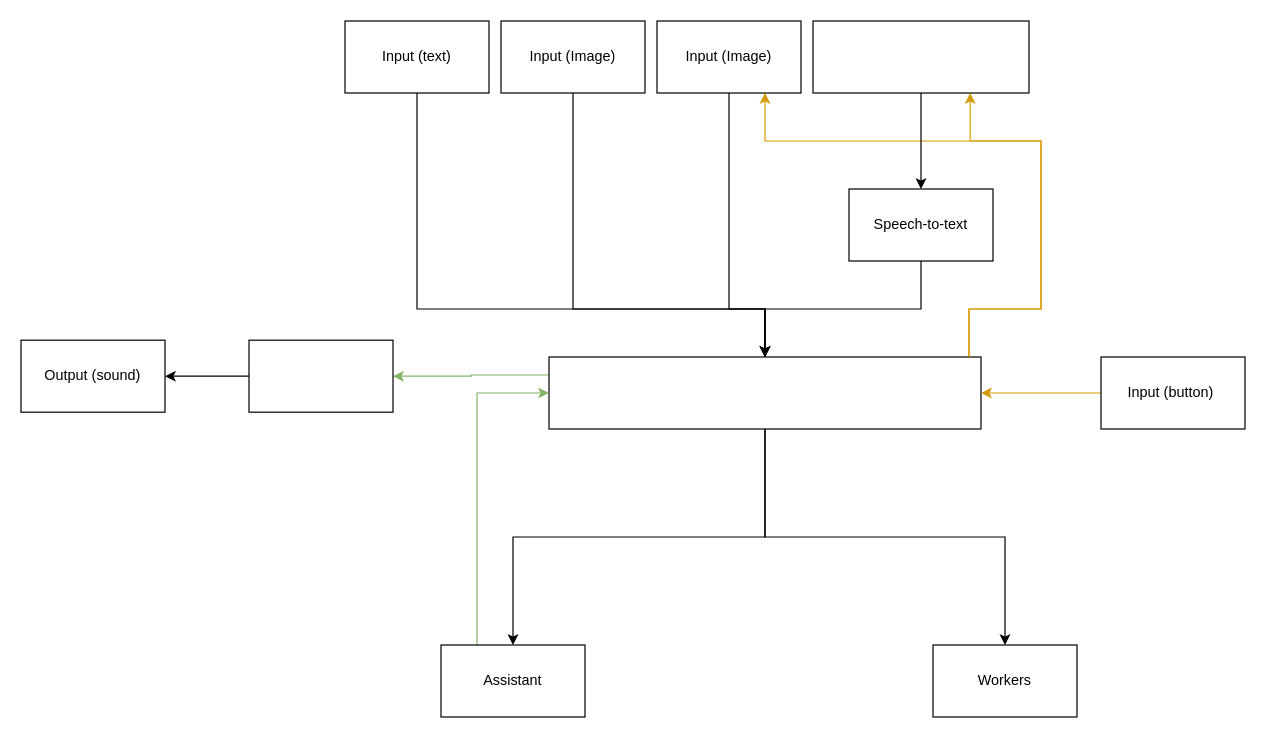
This 1266x738 diagram has some shape labels left out. The shapes that lost their labels are listed below. From the top down, each one's centre as x and y in pixels, then its label:
At point 920,56: "Input (voice)".
At point 320,375: "Text-to-speech".
At point 764,392: "Controller".
